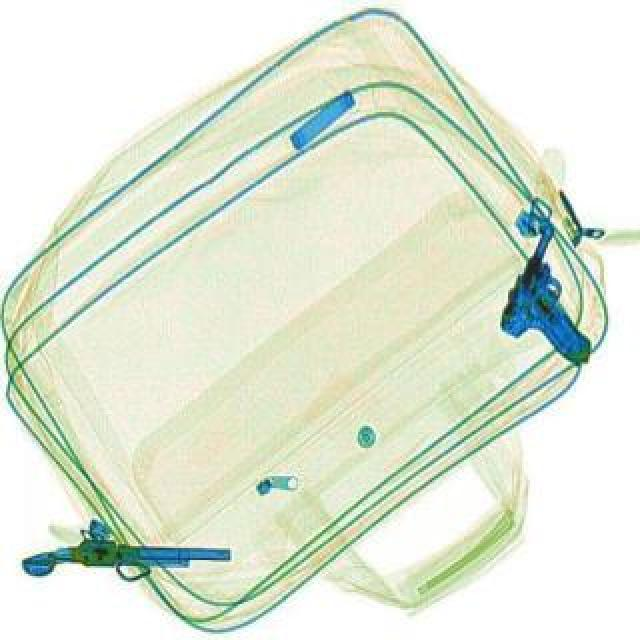gun: (486, 216, 634, 368), (20, 532, 232, 576)
